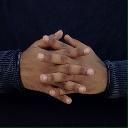hand: (20, 30, 95, 105), (38, 34, 108, 96)
